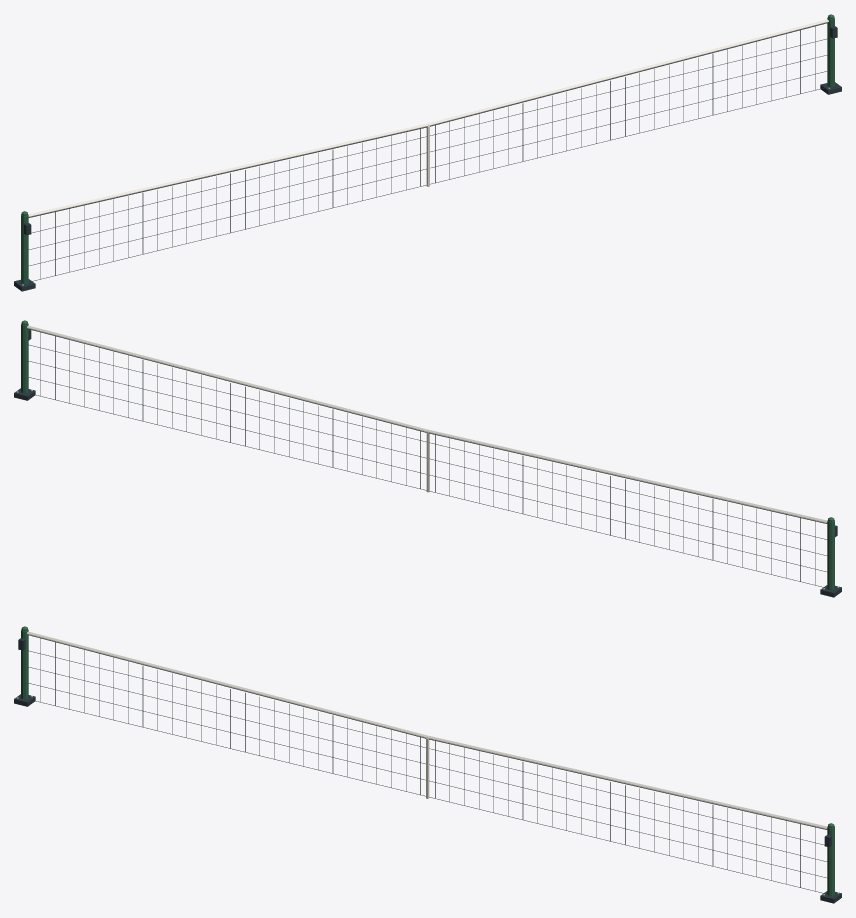
Rendered from b09_tennis_net.glb.
The picture shows the model from 3 angles, top to bottom: view 1: azimuth 30°, elevation 25°; view 2: azimuth 150°, elevation 25°; view 3: azimuth 330°, elevation 25°; orthographic projection.
Parts seen in each view (by area): view 1: b09_tennis_net; view 2: b09_tennis_net; view 3: b09_tennis_net.
Boxes of the visible parts, bbox=[...] form: b09_tennis_net: bbox=[14, 14, 841, 291]; b09_tennis_net: bbox=[14, 320, 841, 597]; b09_tennis_net: bbox=[14, 626, 841, 903].
Size of the model in its own units: 13.02 by 1.15 by 0.22.
